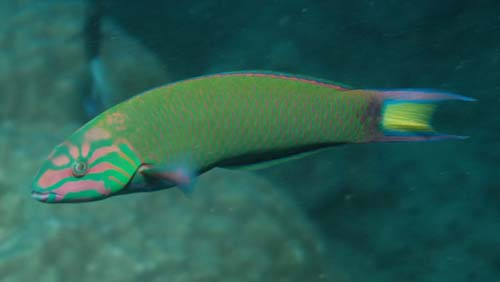fish: (30, 67, 481, 205)
